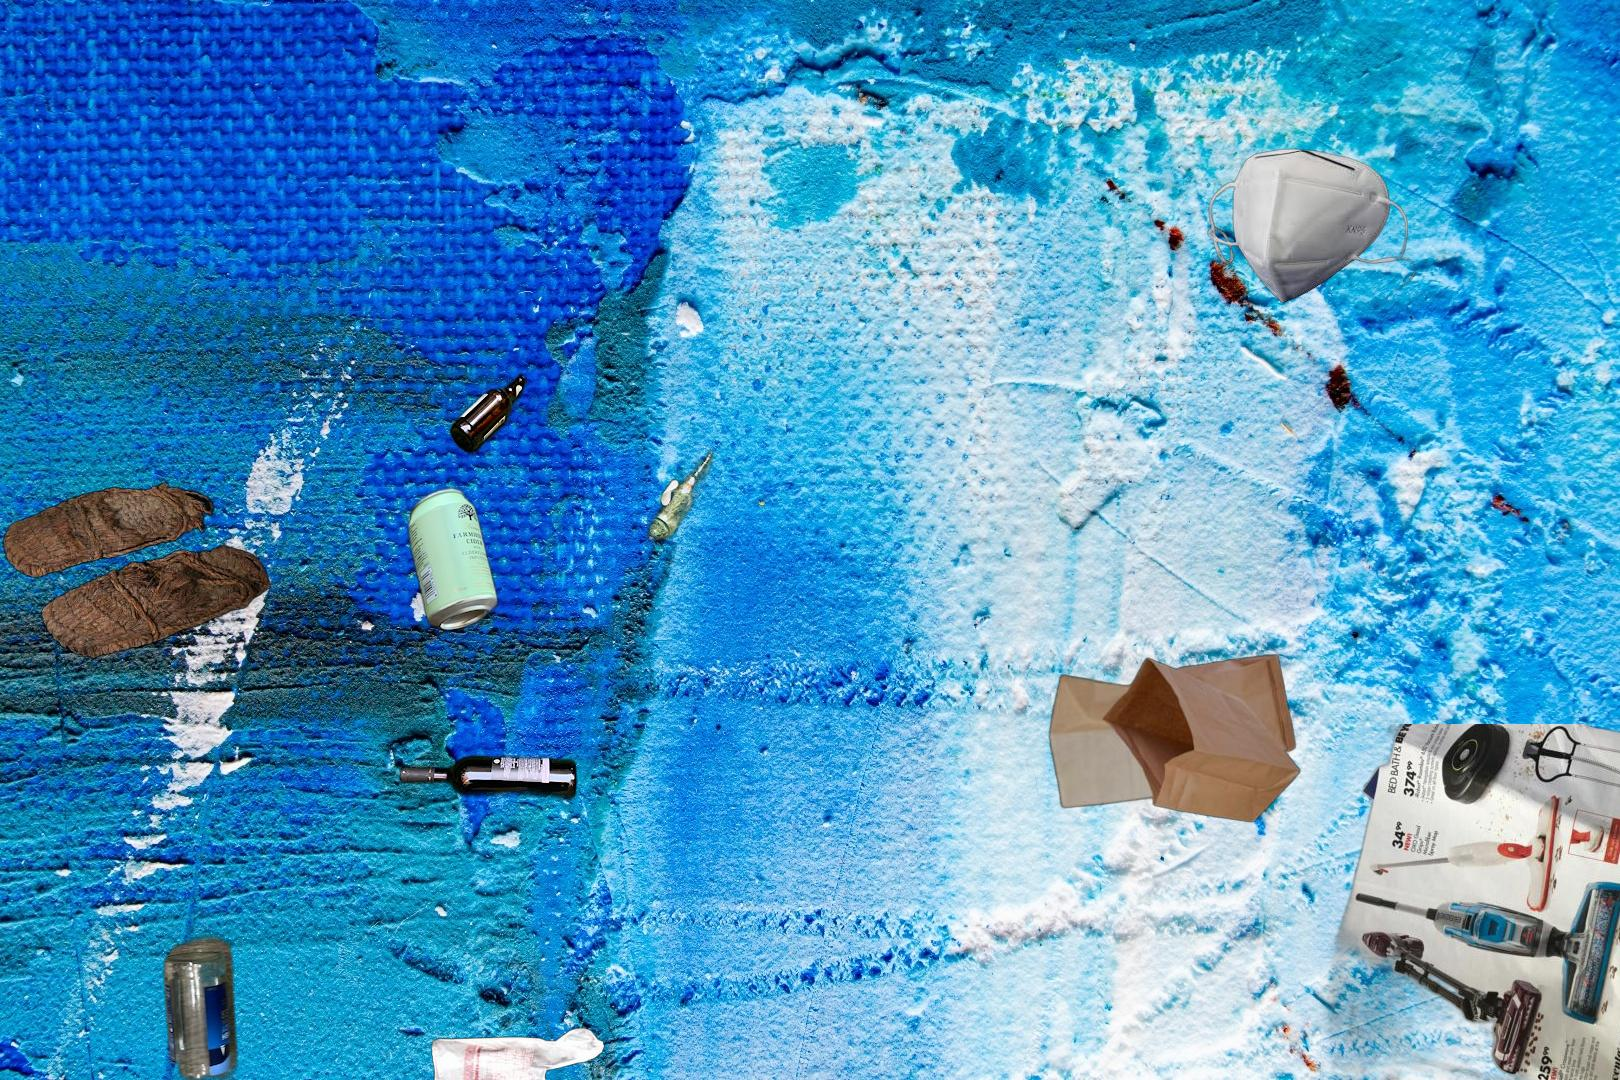glass: (269, 369, 720, 990), (159, 931, 242, 1080)
metal-cans: (403, 481, 501, 636)
paper: (1320, 724, 1620, 1080)
paper-bag: (1047, 652, 1303, 824)
plastic-bag: (344, 1016, 606, 1080)
shoes: (0, 479, 274, 661)
trash: (1205, 146, 1419, 307)
